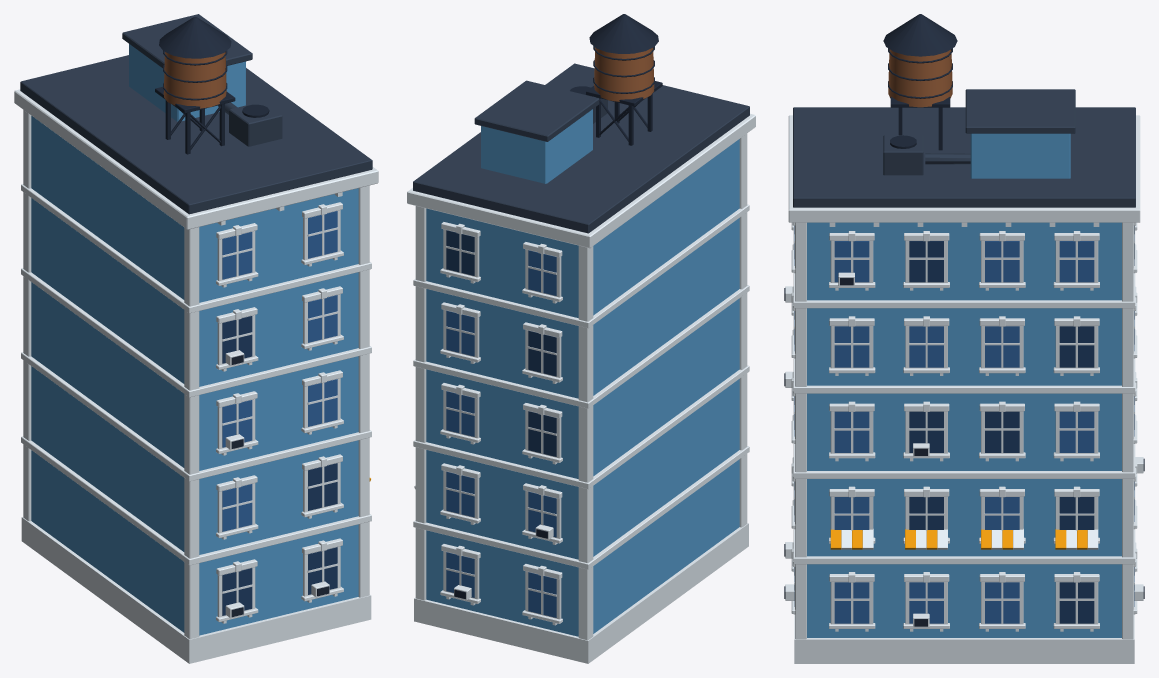
File: edificio_2.glb
3 views of the same model, side by side, from view 1: azimuth 30°, elevation 25°; view 2: azimuth 150°, elevation 25°; view 3: azimuth 270°, elevation 25° (orthographic). The views are drawn at different scales.
Parts seen in each view (by area): view 1: Edificio_2_LoftAzul; view 2: Edificio_2_LoftAzul; view 3: Edificio_2_LoftAzul.
Part boxes in pixels (left/top/right/bottom): Edificio_2_LoftAzul: left=14, top=14, right=378, bottom=663; Edificio_2_LoftAzul: left=407, top=14, right=755, bottom=663; Edificio_2_LoftAzul: left=784, top=14, right=1144, bottom=663.
Size of the model in its own units: 9.82 by 26.76 by 14.73.
